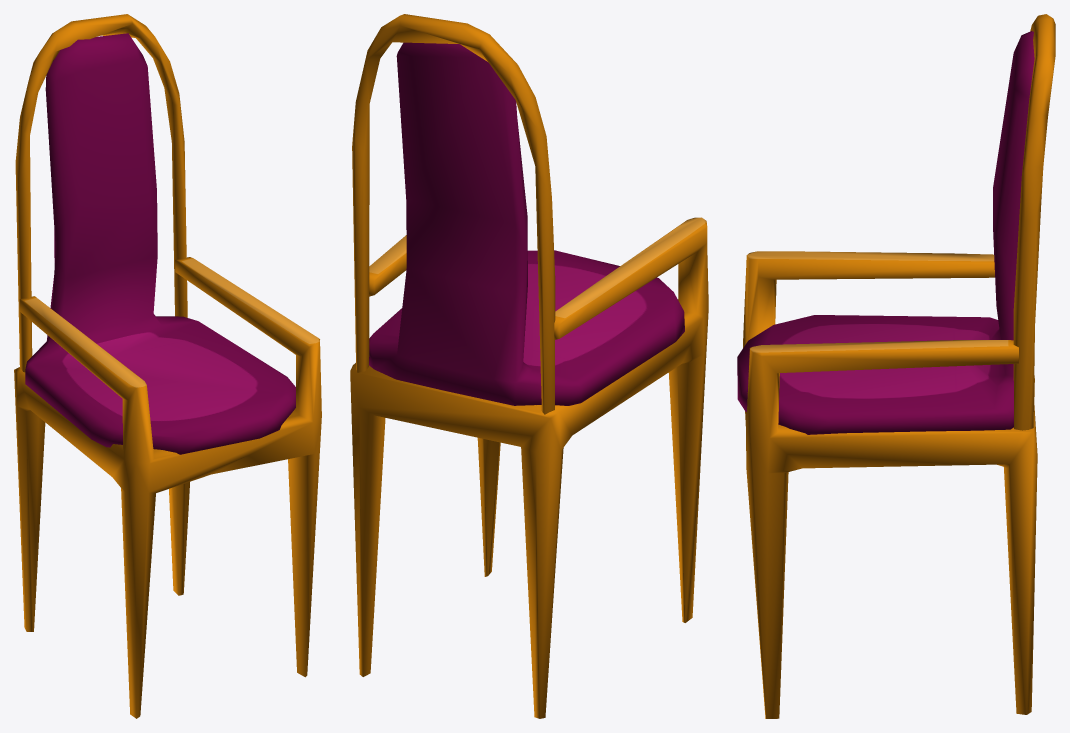
The model's file is chairRestaurant_fixed2.fbx.
3 renders of one model, left to right at view 1: azimuth 30°, elevation 25°; view 2: azimuth 150°, elevation 25°; view 3: azimuth 270°, elevation 25°, orthographic. The views are drawn at different scales.
Parts seen in each view (by area): view 1: deck_chair; view 2: deck_chair; view 3: deck_chair.
Boxes of the visible parts, x1,y1,x2,y2 form: deck_chair: (14, 14, 321, 718); deck_chair: (350, 14, 708, 718); deck_chair: (737, 14, 1055, 718).
Size of the model in its own units: 2.6 by 7.34 by 3.29.
3 materials, 3 textured.
